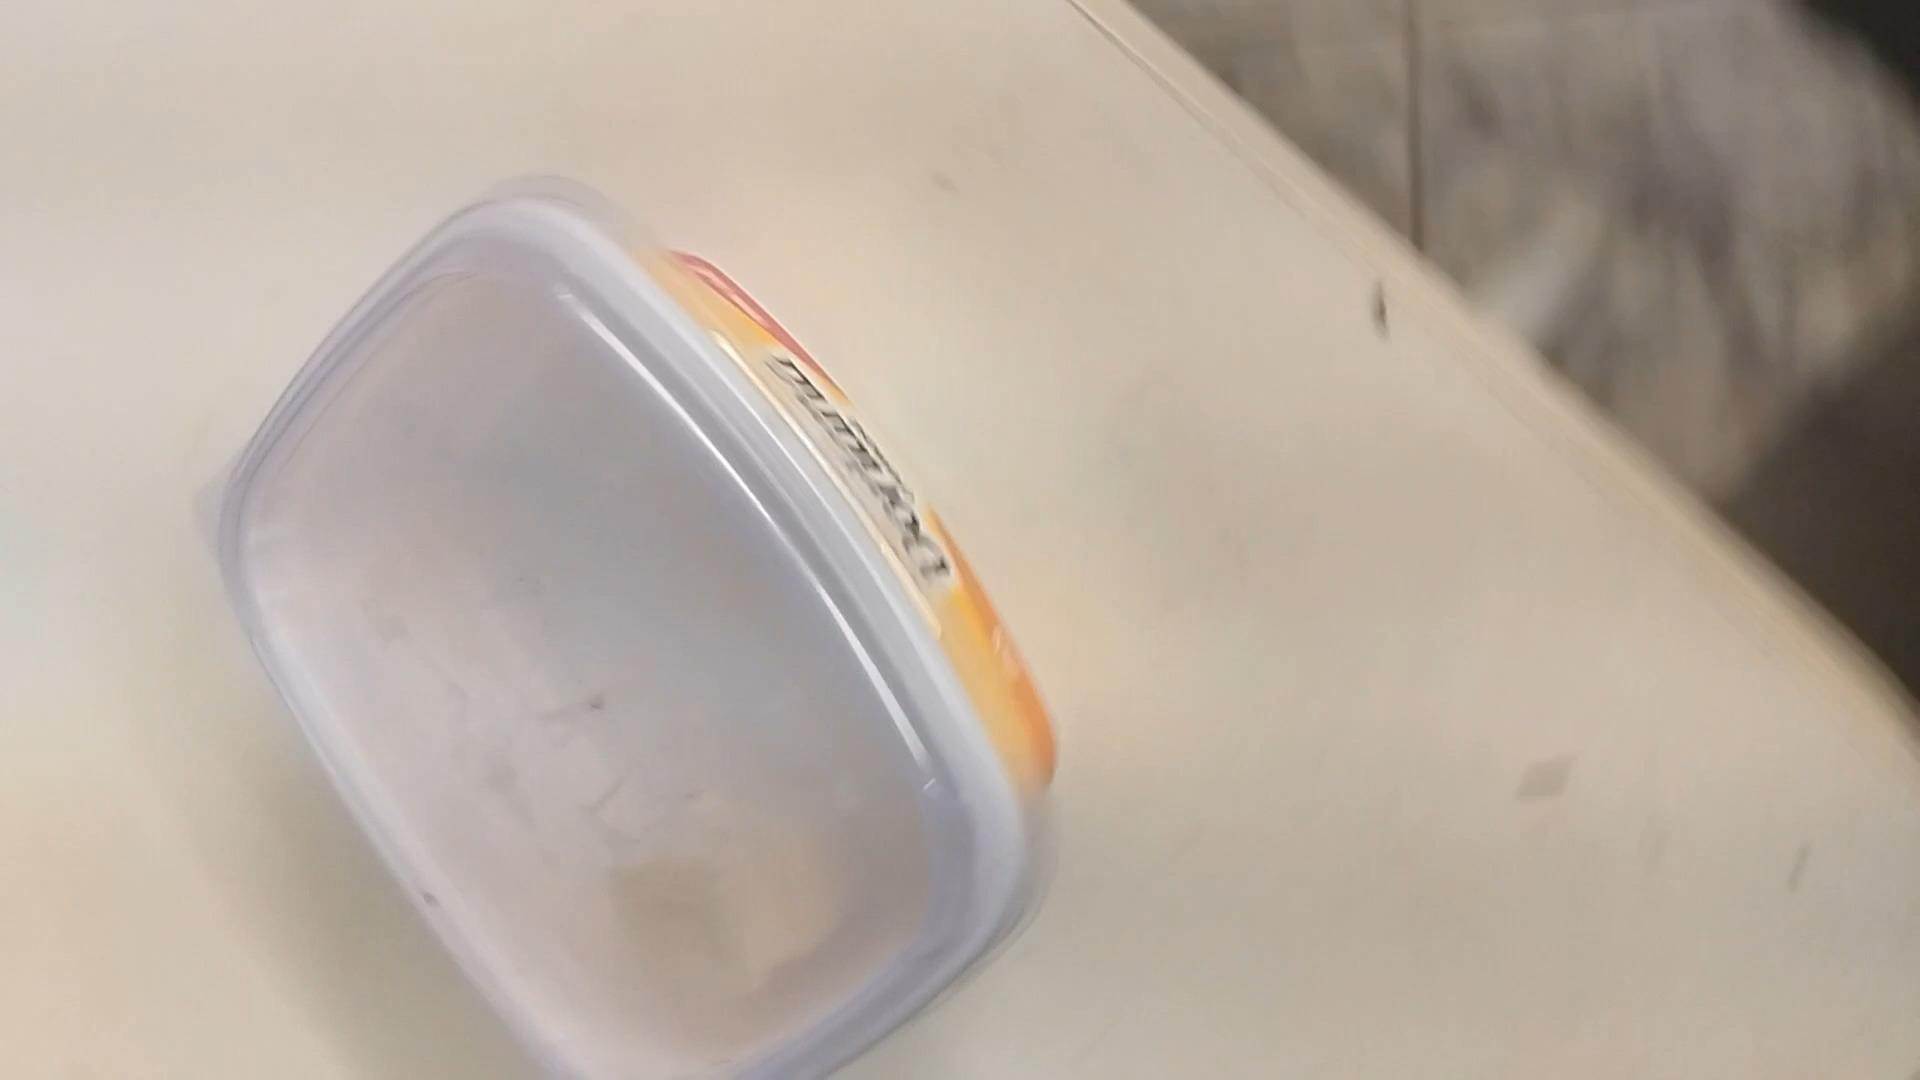butter: (207, 196, 1058, 1073)
